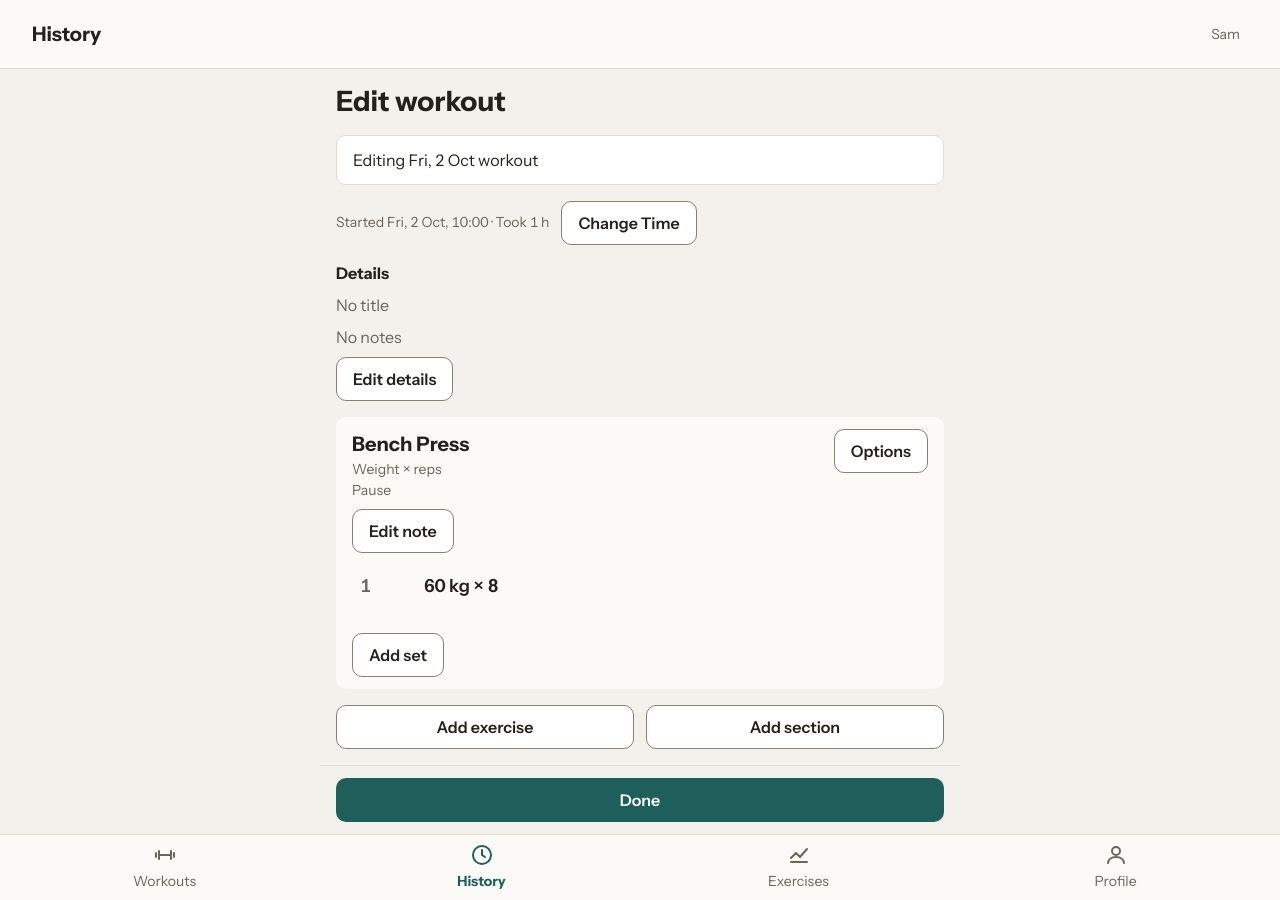
Test: 18.0 AC12 — exercise notes wait for the server › an unchanged note closes with no request
expect the heading "Edit workout" is shown: met, box [336,84,506,118]
Click the button with aria-label "Edit note for Bench Press" at point(403, 531), box [352,509,454,553]
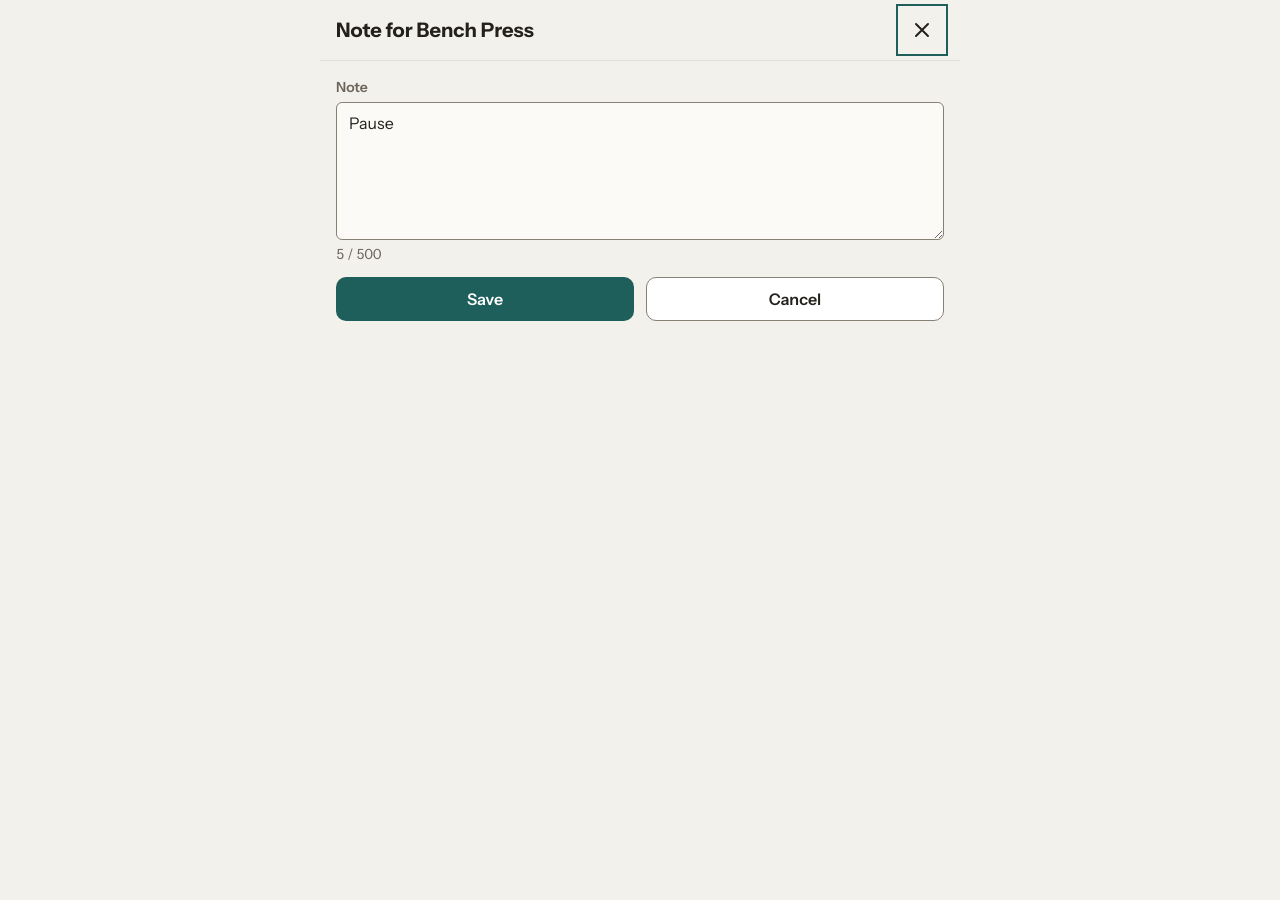
Click the button "Save" at point(485, 299), box [336,277,634,321]
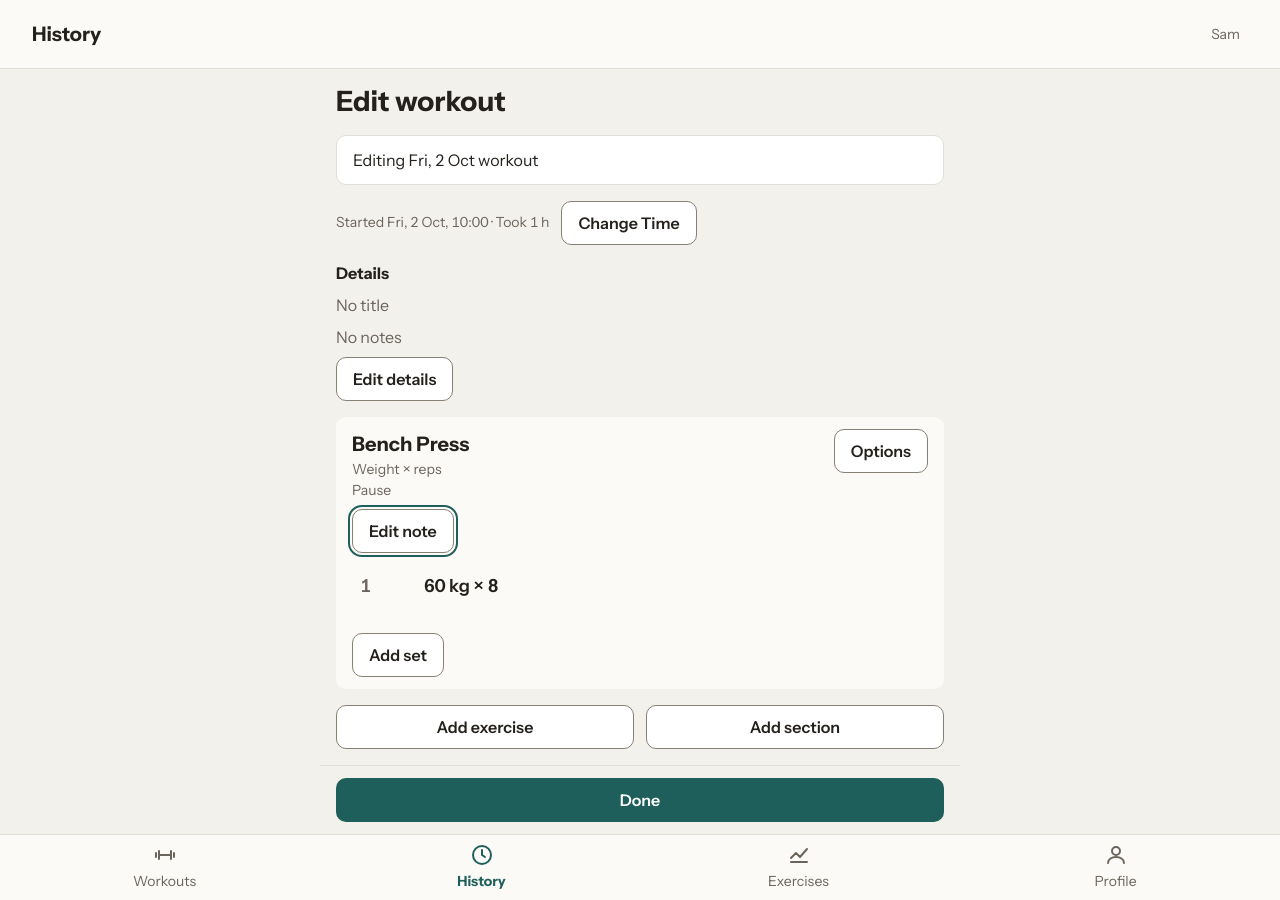
expect the heading "Note for Bench Press" is gone: met
